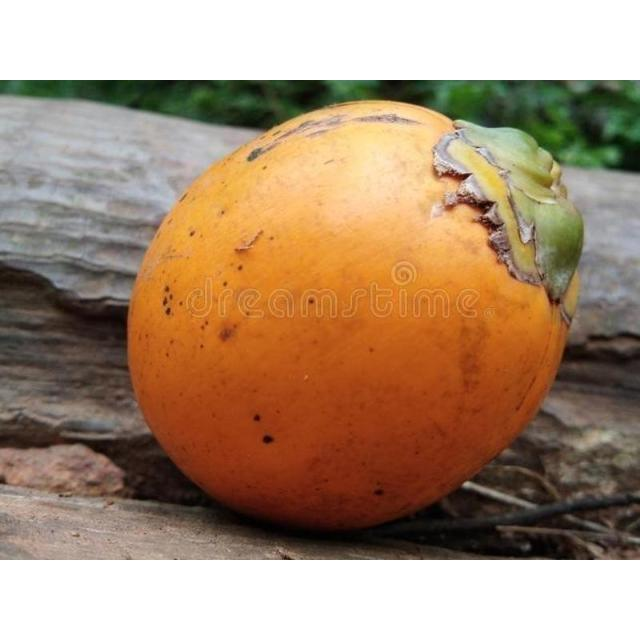good: (126, 100, 586, 538)
